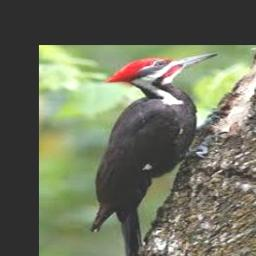Woodpecker: (91, 52, 220, 256)
